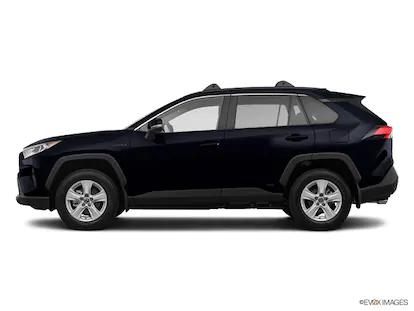Toyota RAV-4: (15, 85, 398, 232)
